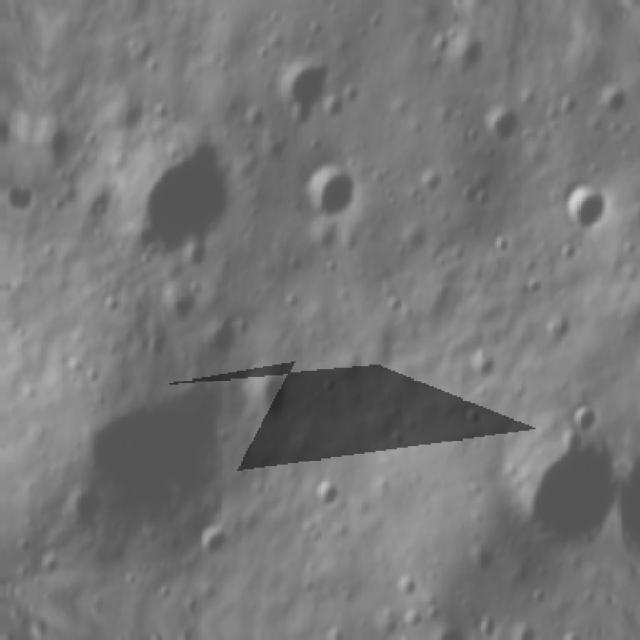crater: (45, 351, 258, 560), (106, 115, 254, 274), (476, 415, 626, 563), (251, 39, 340, 142), (289, 157, 365, 228), (550, 173, 621, 239), (48, 478, 112, 544), (248, 361, 300, 428), (434, 30, 492, 84), (31, 112, 83, 170), (300, 464, 351, 521), (471, 94, 524, 148), (558, 392, 605, 442), (190, 518, 235, 565), (12, 179, 38, 223), (423, 620, 468, 640), (510, 632, 558, 640)
